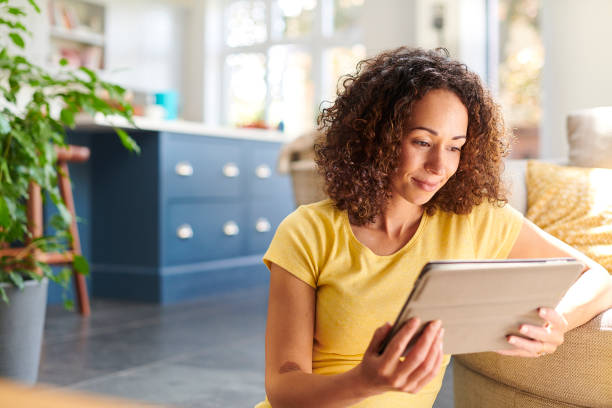without mask: (374, 75, 479, 209)
